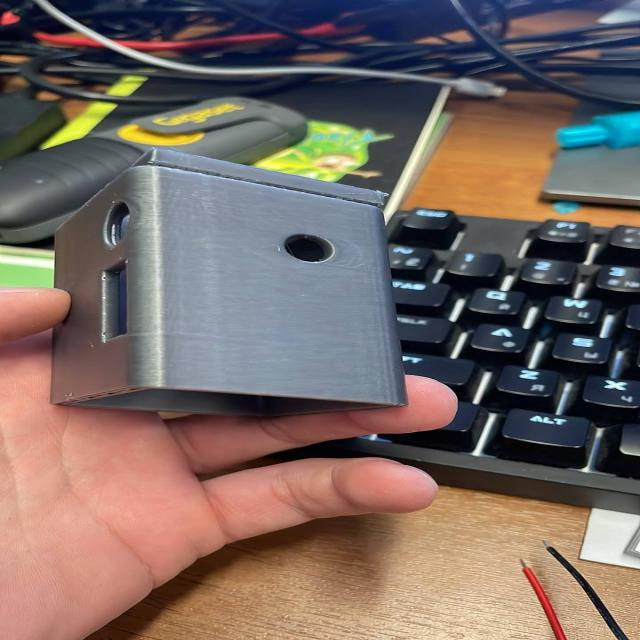Without deffect: (47, 143, 419, 423)
